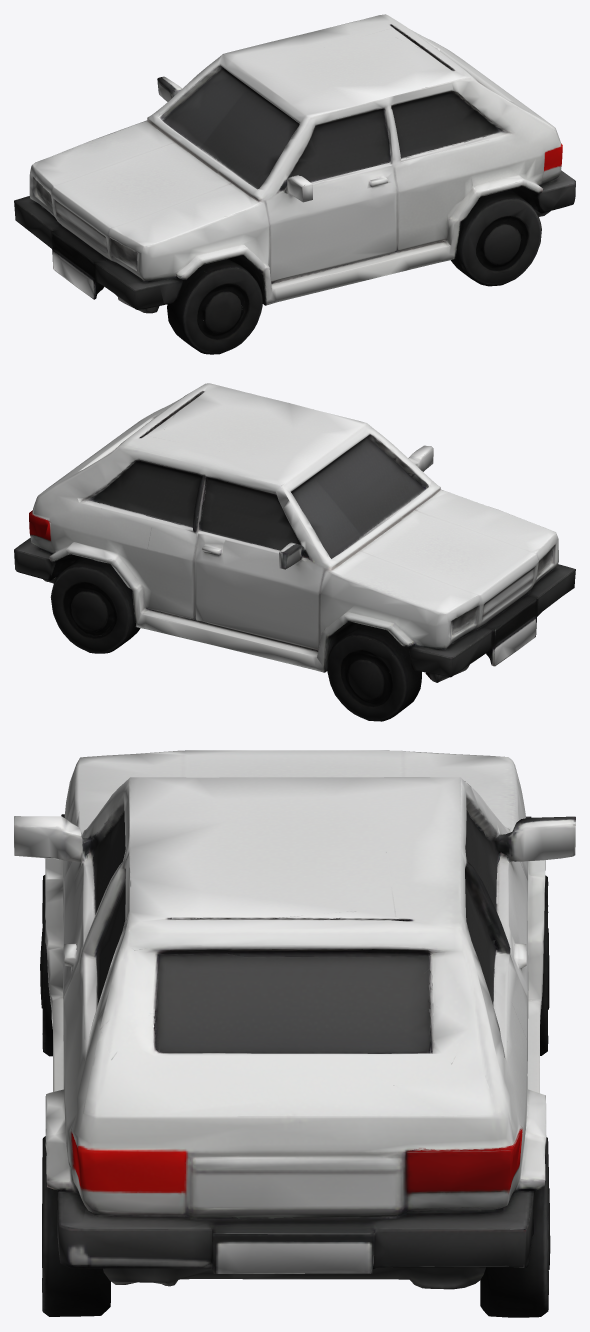
File: Traffic_Car_Lowpoly_A.fbx
3 views of the same model, one above another, from view 1: azimuth 30°, elevation 25°; view 2: azimuth 150°, elevation 25°; view 3: azimuth 270°, elevation 25° (orthographic). The views are drawn at different scales.
Parts seen in each view (by area): view 1: geometry_0; view 2: geometry_0; view 3: geometry_0.
Boxes of the visible parts, x1,y1,x2,y2 form: geometry_0: [14, 14, 575, 354]; geometry_0: [14, 383, 575, 721]; geometry_0: [14, 750, 575, 1317].
Size of the model in its own units: 4.5 by 1.88 by 2.55.
1 material, 1 textured.
